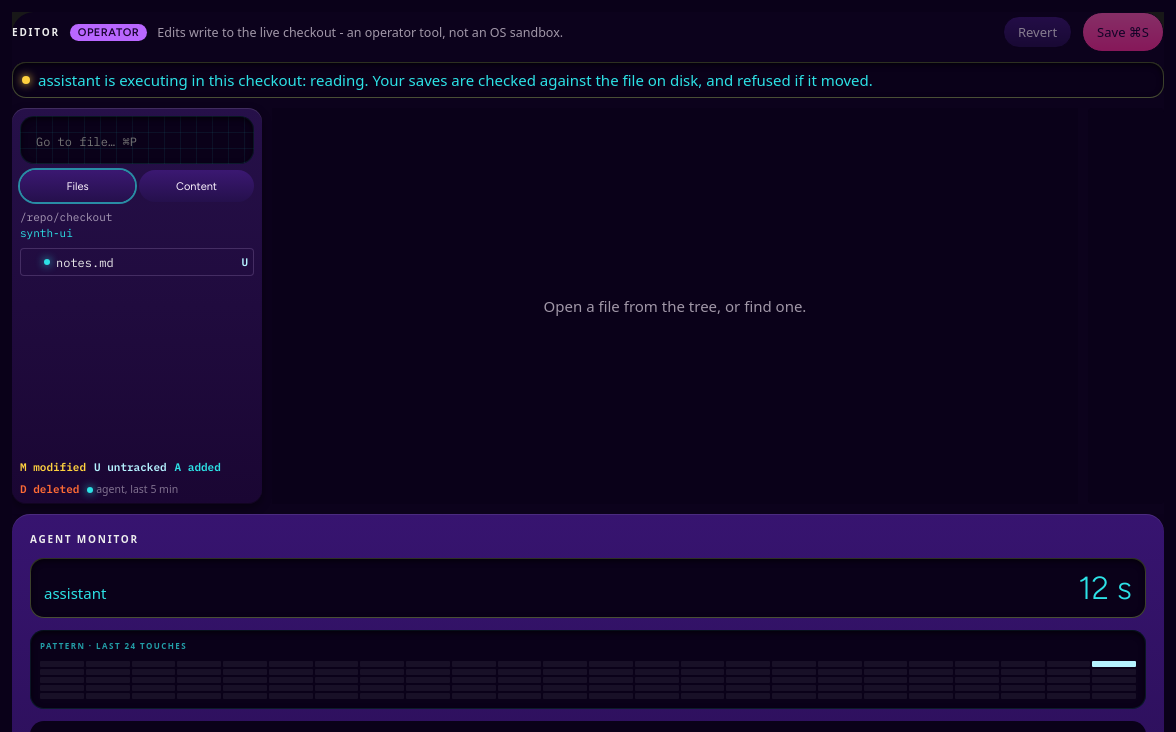
Test: with no reported position the agent tag sits at the top of the viewport, not on a line
Click the text "notes.md" at (85, 262), box x1=56 y1=254 x2=114 y2=270
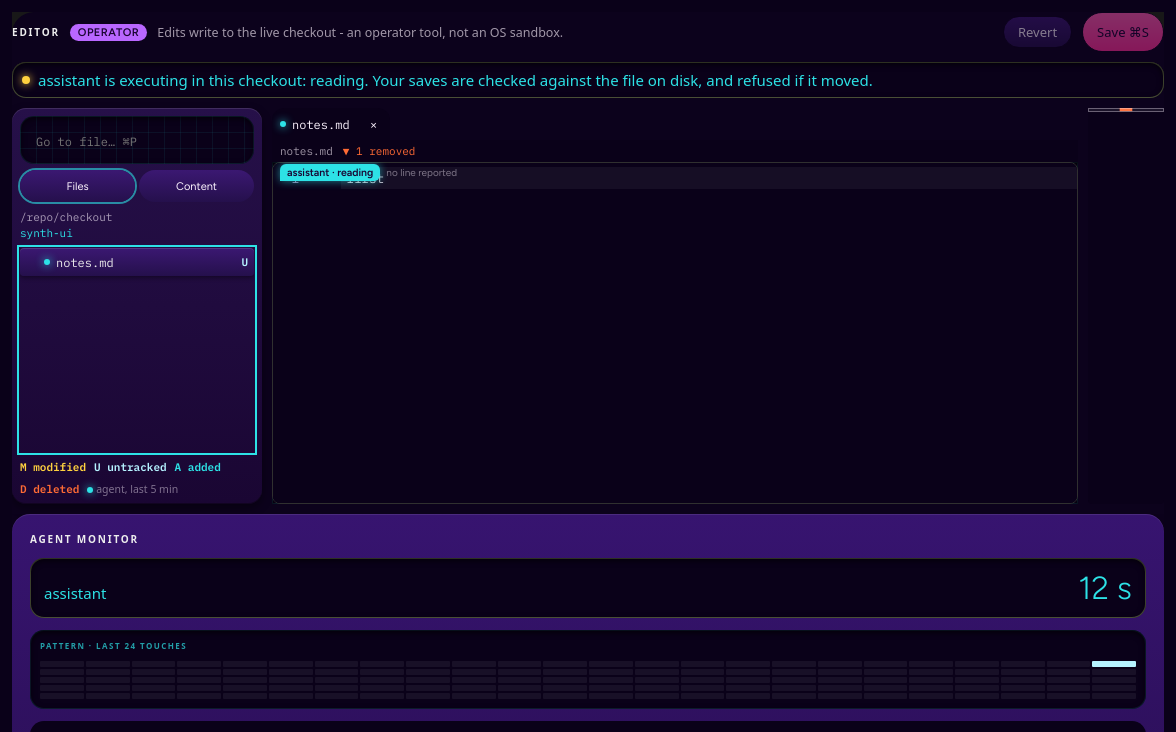
Now the field with class "cm-content" is shown, box x1=340 y1=167 x2=1077 y2=189
Now the message "assistant · reading no line reported" is shown, box x1=280 y1=164 x2=457 y2=181
Now the message with class "synth-editor__presence" shows "assistant", box x1=287 y1=166 x2=329 y2=179
